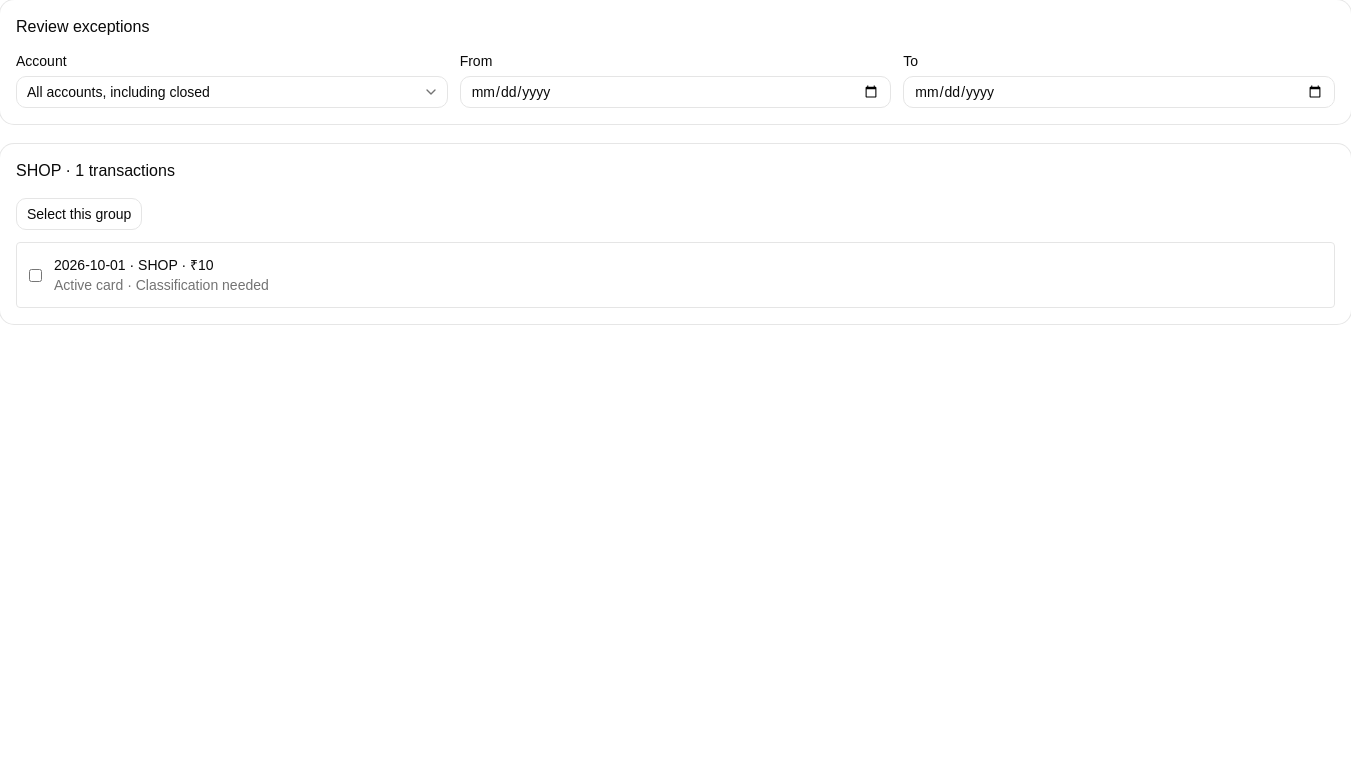
Scenario: expense workflows › requires a preview before applying a group classification
Click the button "Select this group".
click(79, 214)  # box [16, 198, 142, 230]
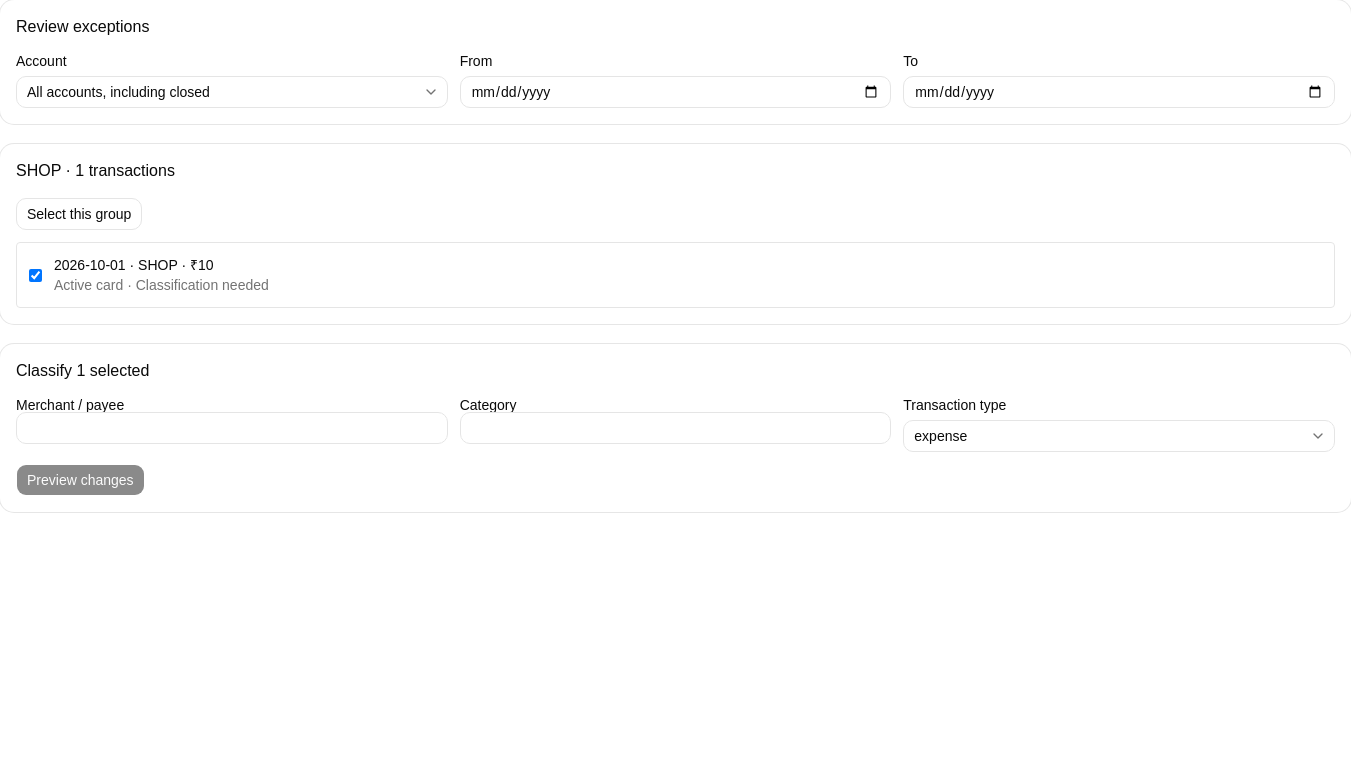
Expected: the button "Apply to selected" is not shown
Type "Shop" into the field below "Merchant / payee".
click(232, 428); type("Shop")  # box [16, 412, 448, 444]
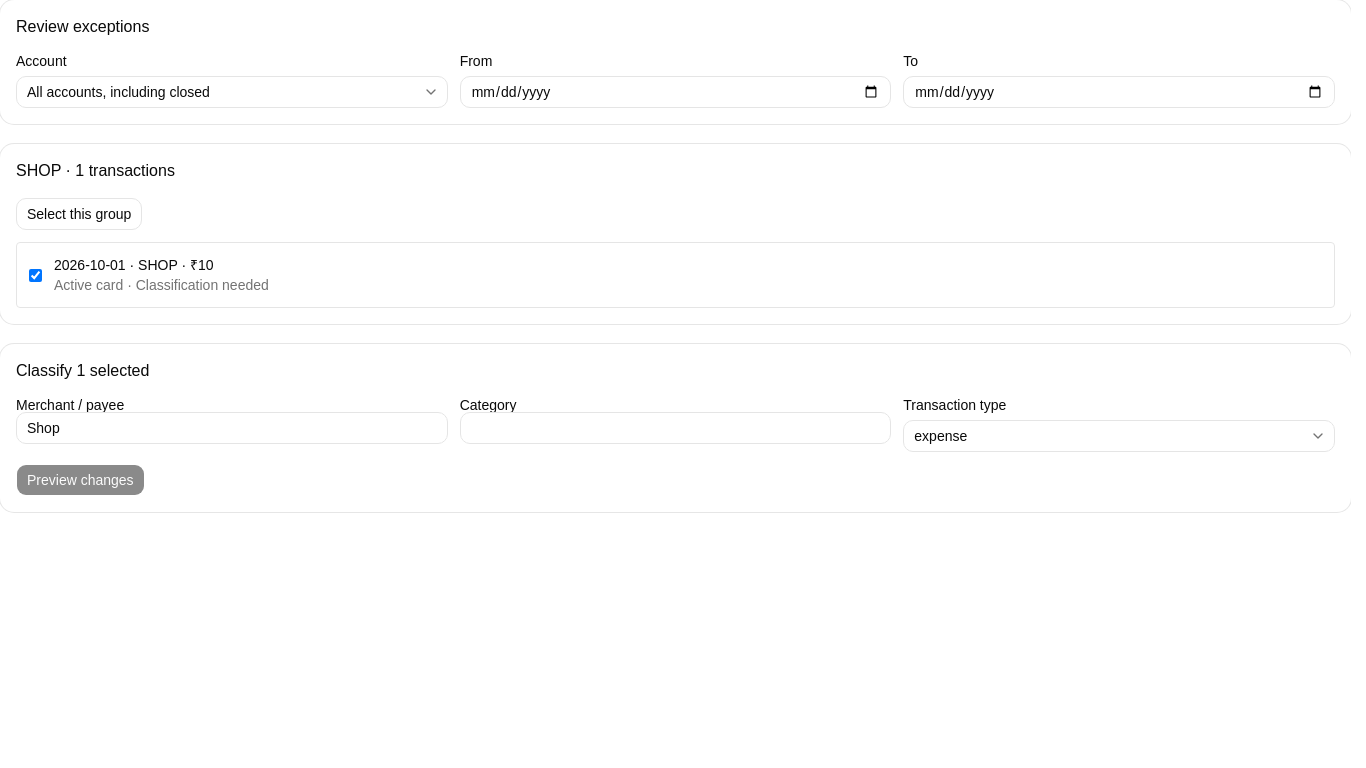
Type "Food" into the field below "Category".
click(676, 428); type("Food")  # box [460, 412, 891, 444]
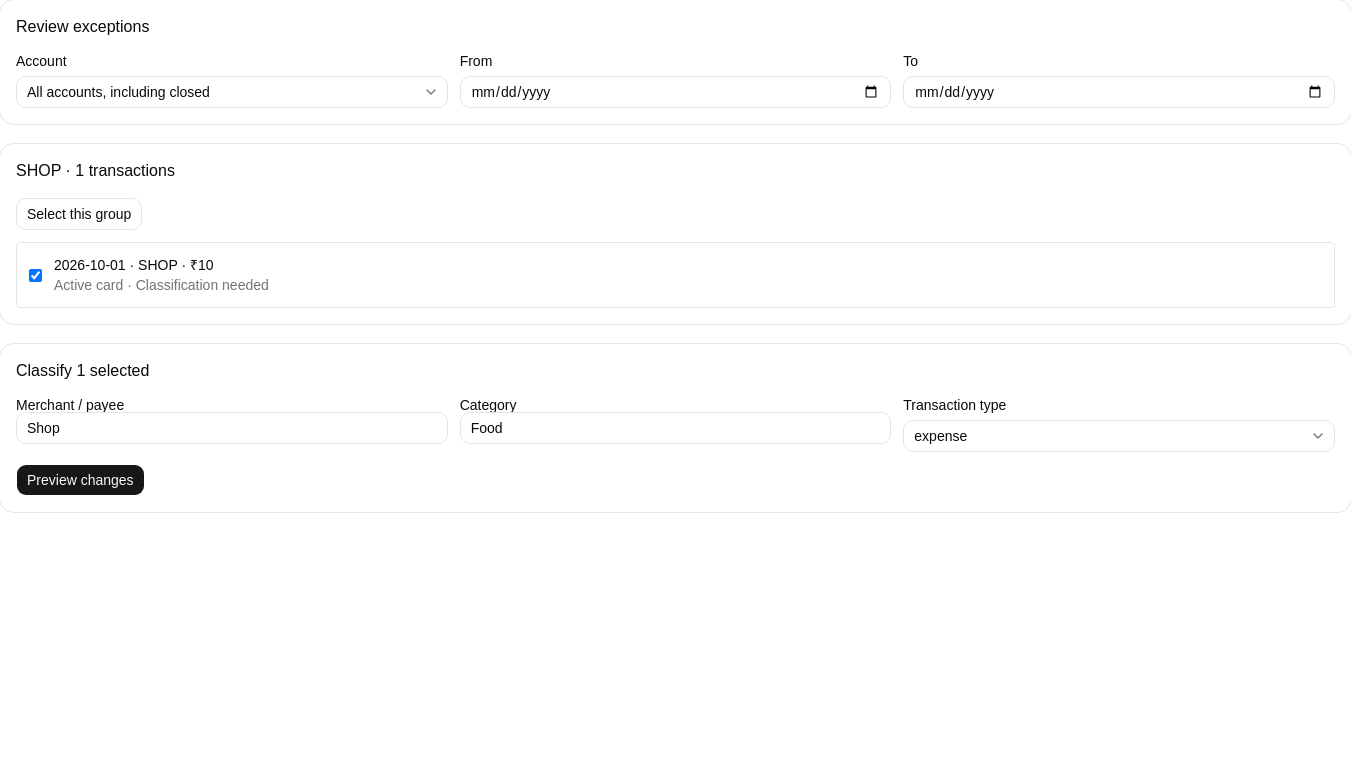
Click the button "Preview changes".
click(80, 480)  # box [16, 464, 145, 496]
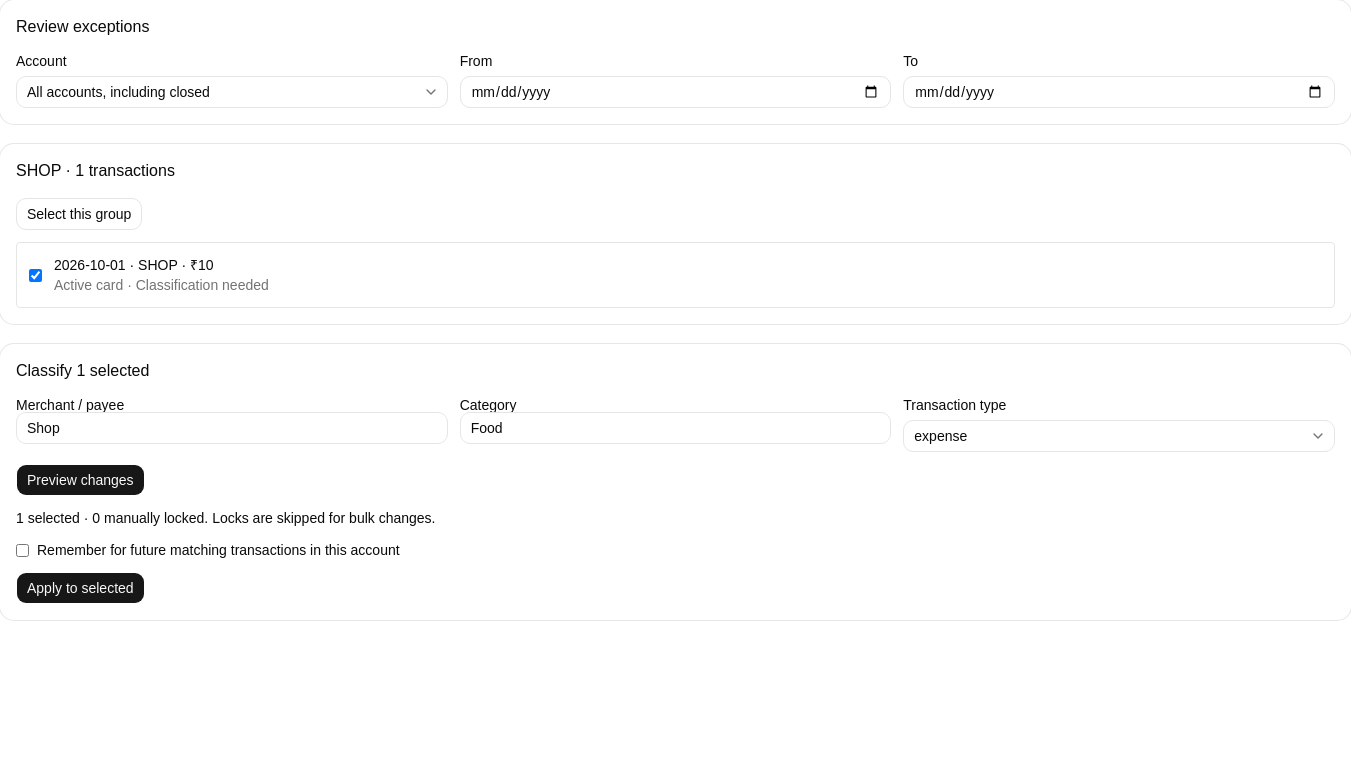
Result: the button "Apply to selected" is shown at [16, 572, 145, 604]
